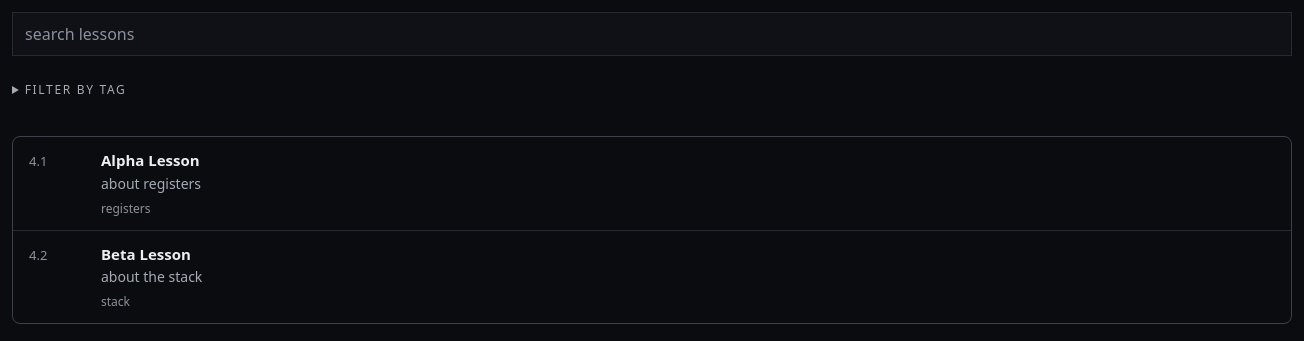
Test case: LessonIndex › finds a lesson from two words typed in another order
The image size is (1304, 341).
In the search field labelled "search lessons": (652, 34) x1=12 y1=12 x2=1292 y2=56, type "registers alpha"
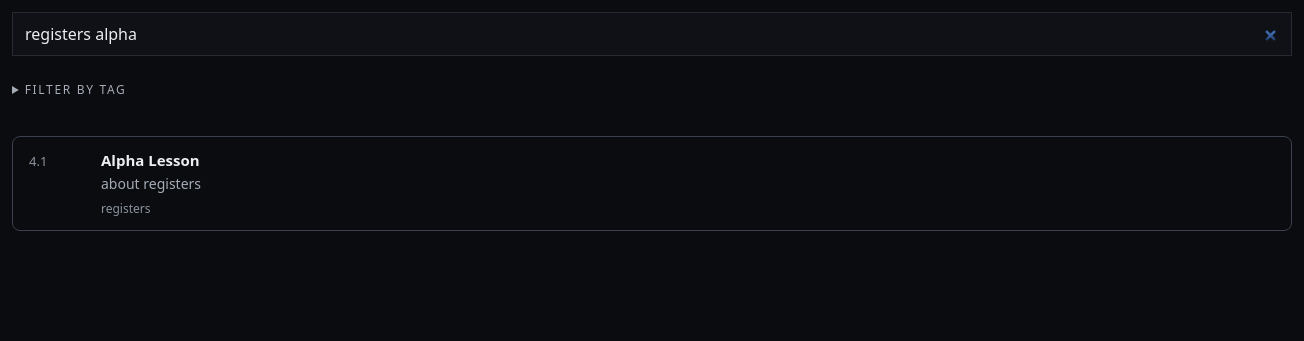
Expected: the text "Alpha Lesson" is shown, x1=101 y1=150 x2=200 y2=170
Result: the link "Beta Lesson" is gone
